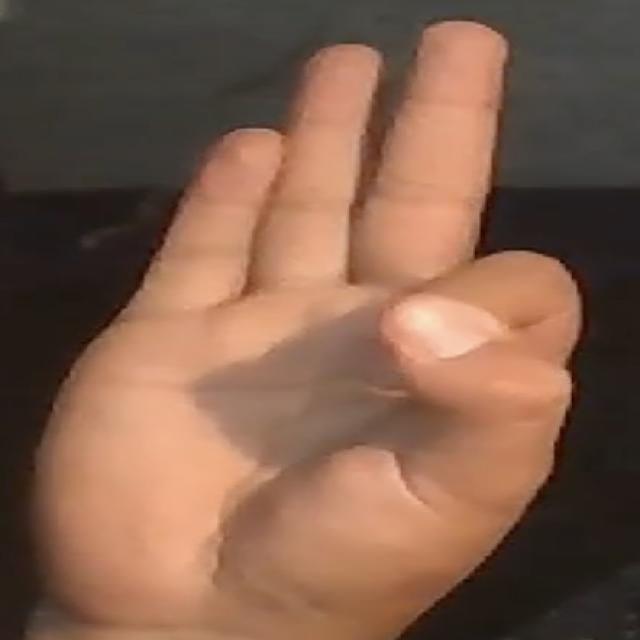F: (19, 5, 608, 614)
